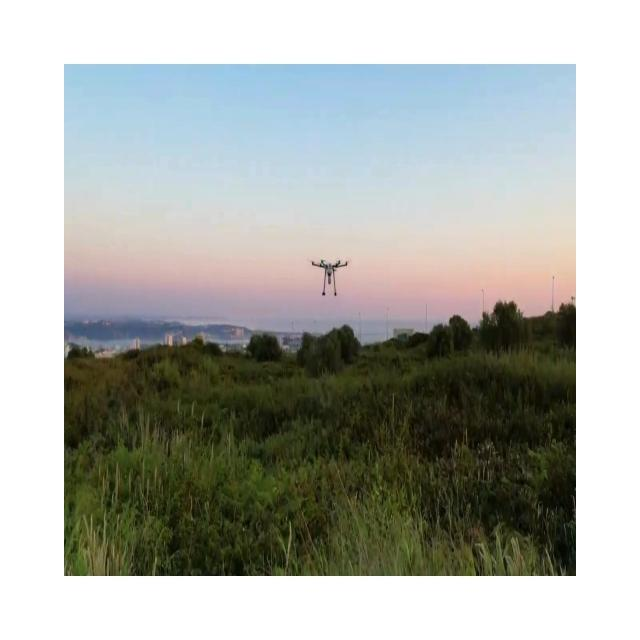drone: (309, 258, 348, 296)
